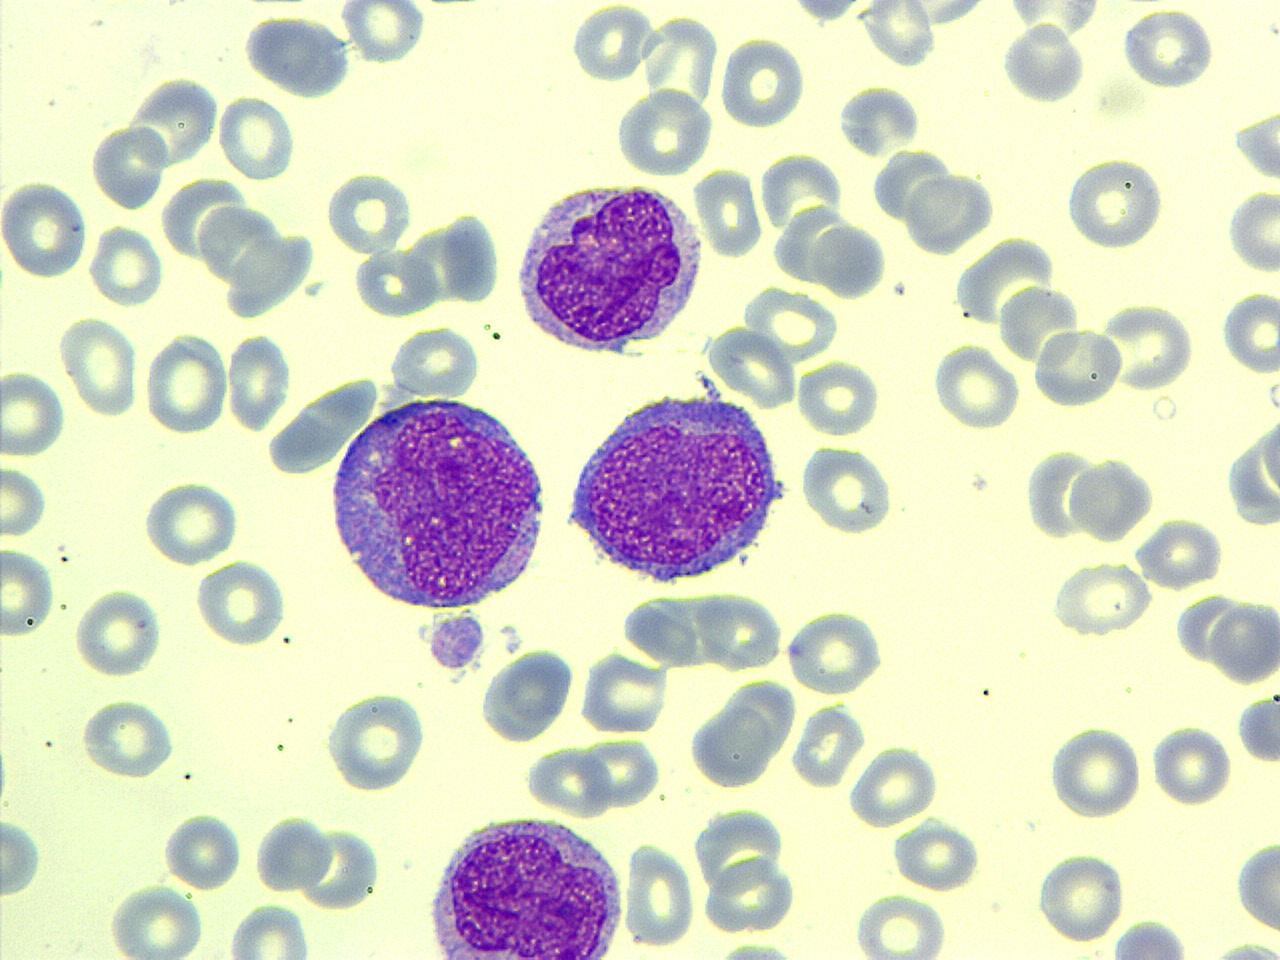Platelets: (834, 83, 926, 158), (568, 4, 655, 84), (1234, 691, 1280, 768), (717, 938, 795, 960), (1214, 938, 1280, 960)
RBC: (912, 0, 1280, 368), (322, 690, 430, 794), (477, 644, 578, 745), (1063, 154, 1167, 251), (782, 606, 888, 697), (797, 440, 895, 537), (1046, 721, 1142, 821), (1099, 297, 1197, 393), (614, 87, 715, 179), (143, 330, 230, 437), (0, 176, 88, 281), (1034, 850, 1128, 946), (56, 313, 141, 417), (72, 585, 165, 679), (194, 556, 288, 648), (142, 477, 240, 567), (718, 33, 807, 131), (621, 837, 698, 949), (929, 340, 1021, 434), (706, 322, 800, 410), (1049, 558, 1153, 638), (1119, 6, 1215, 92), (80, 696, 177, 781), (846, 743, 942, 827), (324, 168, 413, 258), (904, 168, 994, 258), (740, 283, 840, 364), (688, 700, 777, 790), (1066, 453, 1154, 544), (1031, 326, 1125, 410), (702, 852, 797, 936), (695, 586, 787, 672), (1023, 445, 1101, 545), (998, 20, 1086, 107), (108, 881, 208, 958), (888, 814, 984, 893), (385, 324, 484, 400), (1224, 403, 1280, 534), (225, 329, 295, 432), (1150, 721, 1234, 808), (251, 811, 336, 895), (1135, 512, 1227, 590), (795, 356, 881, 439), (217, 93, 297, 179), (850, 891, 954, 958), (693, 163, 766, 259), (162, 808, 244, 892), (92, 122, 168, 212), (572, 2, 654, 86), (88, 221, 165, 309), (790, 700, 865, 791), (0, 365, 69, 460), (580, 734, 662, 812), (353, 246, 440, 318), (810, 223, 887, 302), (339, 0, 433, 64), (1208, 600, 1278, 686), (858, 0, 938, 70), (1, 542, 56, 640), (1220, 284, 1280, 374), (225, 901, 312, 959), (1225, 184, 1279, 276), (1231, 834, 1279, 934), (998, 0, 1115, 37), (0, 813, 44, 899), (1104, 917, 1194, 959), (882, 0, 996, 33), (0, 462, 49, 538)
WBC: (324, 388, 556, 615), (561, 376, 791, 586), (507, 172, 706, 358), (422, 808, 628, 960), (239, 7, 356, 100)
